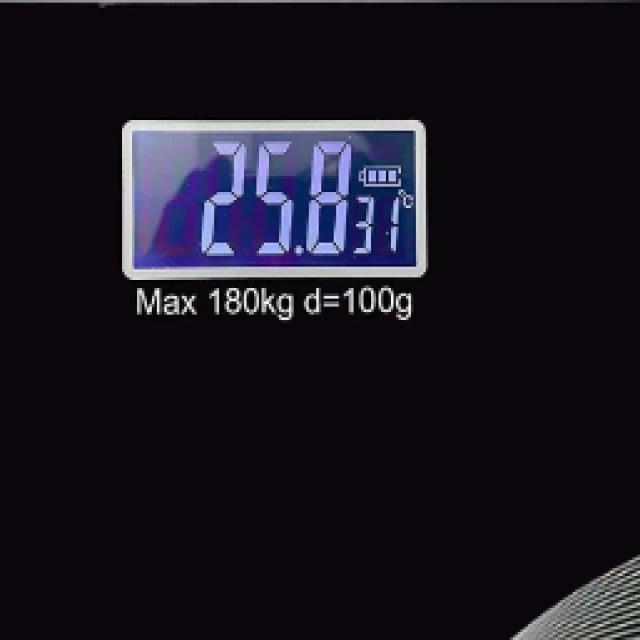.: (292, 244, 306, 258)
1: (384, 192, 405, 262)
2: (200, 137, 248, 265)
3: (350, 195, 378, 260)
5: (250, 132, 296, 260)
8: (305, 135, 355, 260)
screen: (132, 126, 422, 267)
